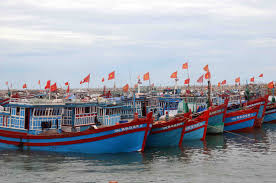tau_dansu: (1, 93, 152, 155), (148, 94, 186, 152), (182, 94, 211, 151), (209, 88, 224, 144)
